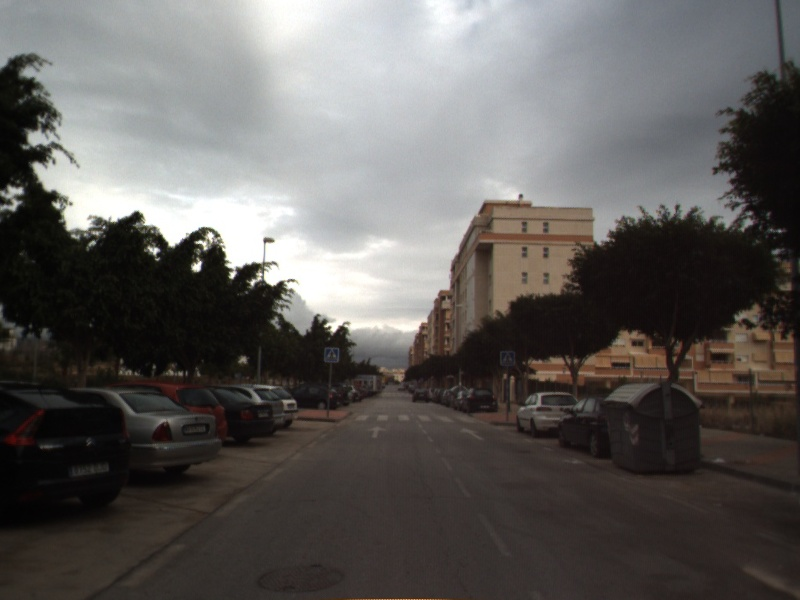STRAIGHT: (458, 426, 486, 442), (365, 424, 389, 440)
